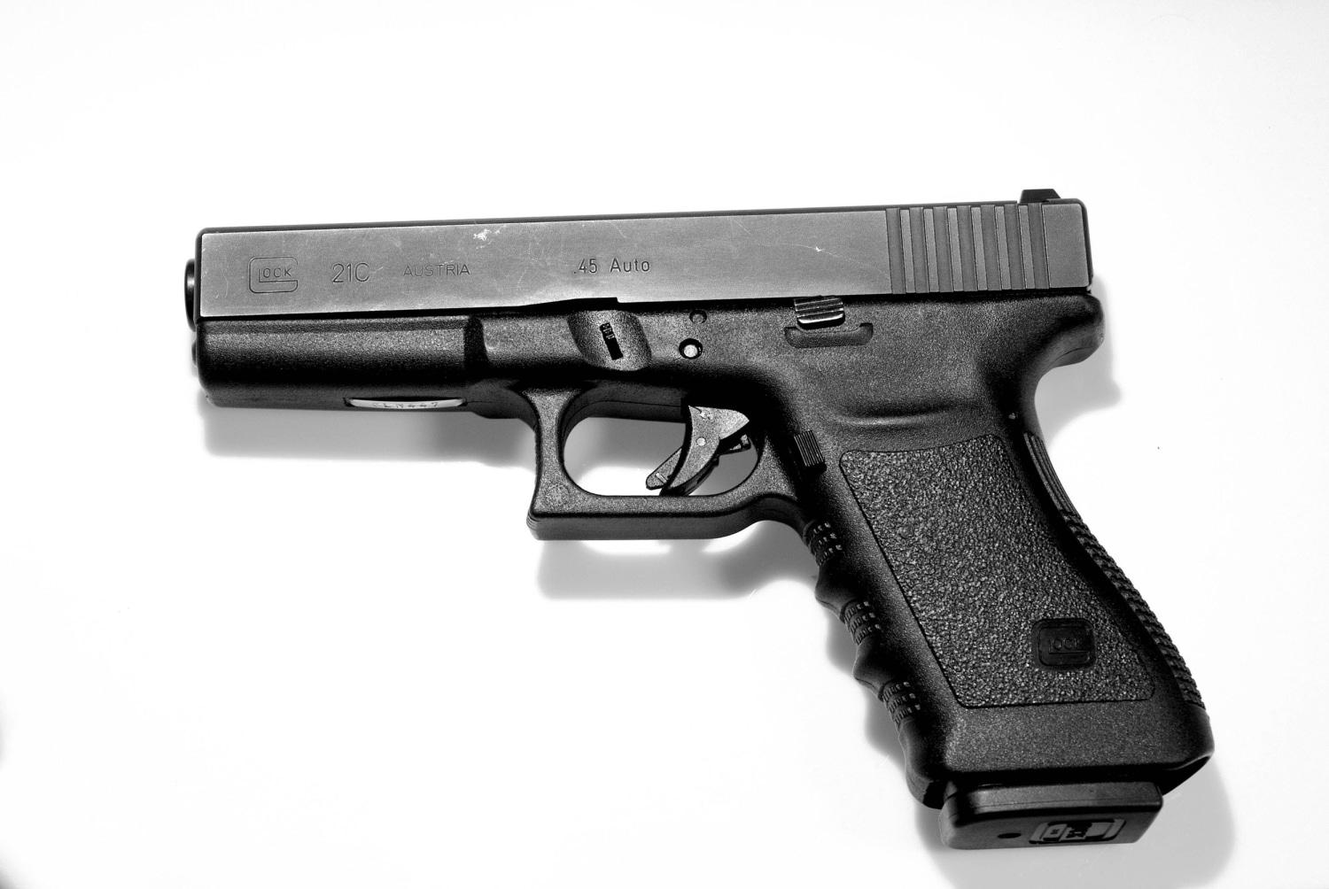handgun: (152, 194, 1229, 857)
